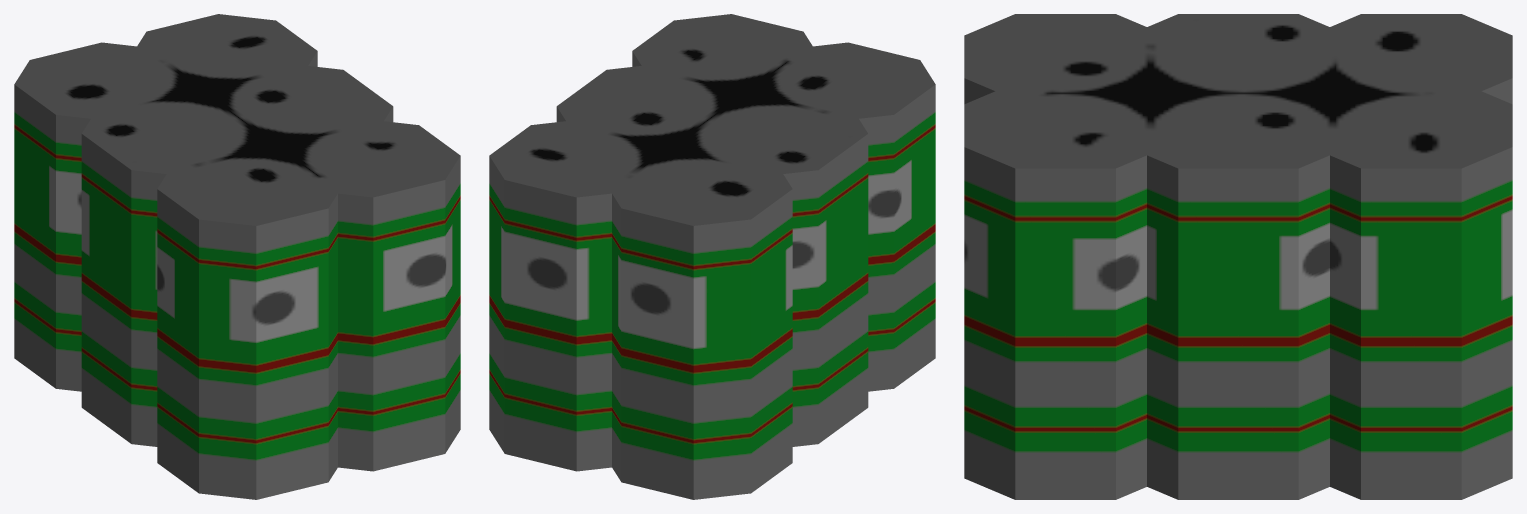
Rendered from six-pack.glb.
3 renders of one model, left to right at view 1: azimuth 30°, elevation 25°; view 2: azimuth 150°, elevation 25°; view 3: azimuth 270°, elevation 25°, orthographic. The views are drawn at different scales.
Visible parts, largest first — view 1: six_pack; view 2: six_pack; view 3: six_pack.
Part boxes in pixels (x1,y1,x2,y2): six_pack: [14, 14, 460, 499]; six_pack: [489, 14, 935, 499]; six_pack: [964, 14, 1512, 499].
Bounding box in the file's own units: 0.15 × 0.15 × 0.225.
1 material, 1 textured.
